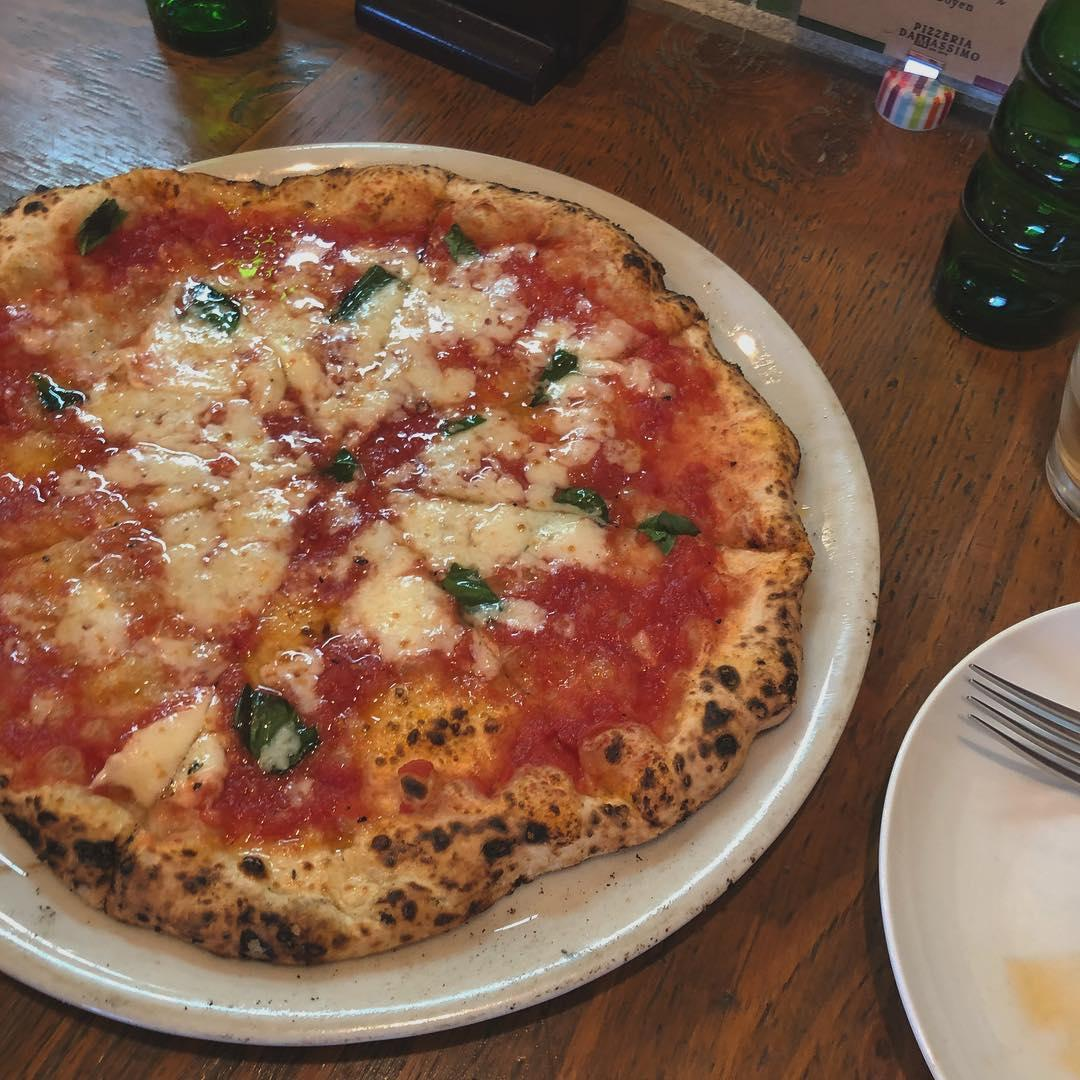Basil: (231, 689, 313, 774), (171, 273, 249, 342), (327, 255, 393, 320), (545, 477, 614, 536), (435, 561, 502, 620), (429, 213, 490, 276), (65, 201, 125, 258), (625, 511, 704, 552), (529, 345, 585, 402), (23, 365, 82, 417), (437, 405, 480, 446), (321, 441, 362, 480)
Pizza: (7, 161, 806, 968)
